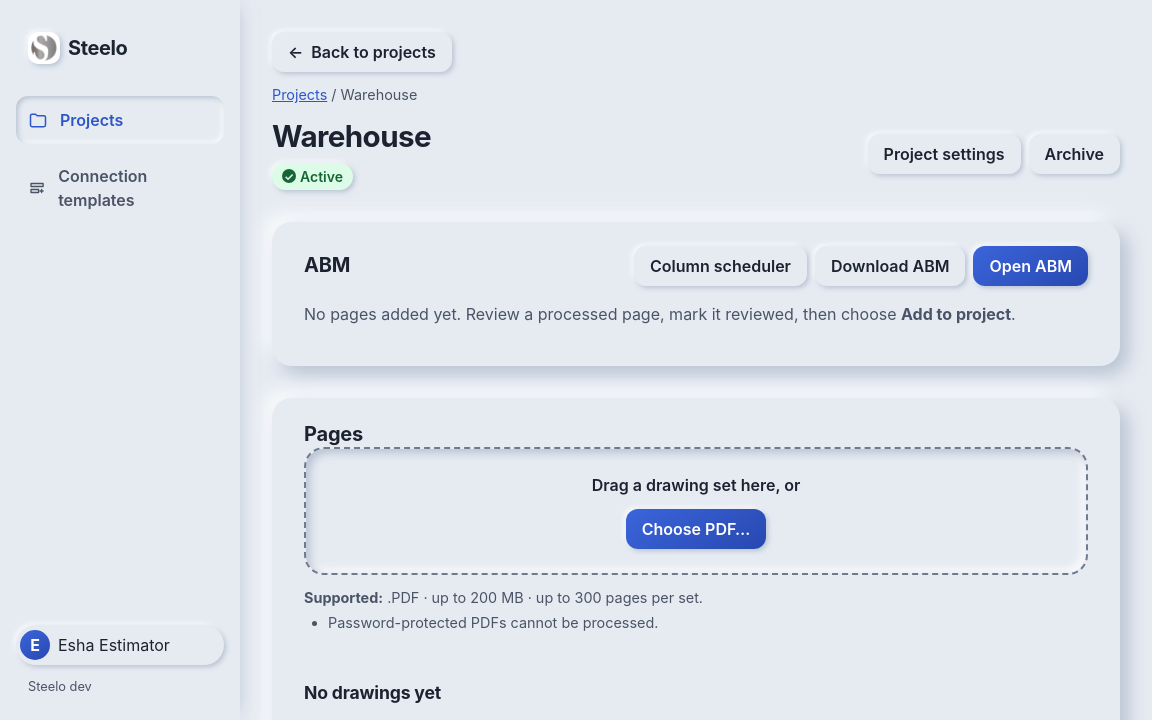
Project details › lists the project’s pens and removes one
The image size is (1152, 720).
What coordinates should you click on to do the following:
click the button "Project settings"
I would click on:
 (944, 154)
Its box is [868,134,1020,174].
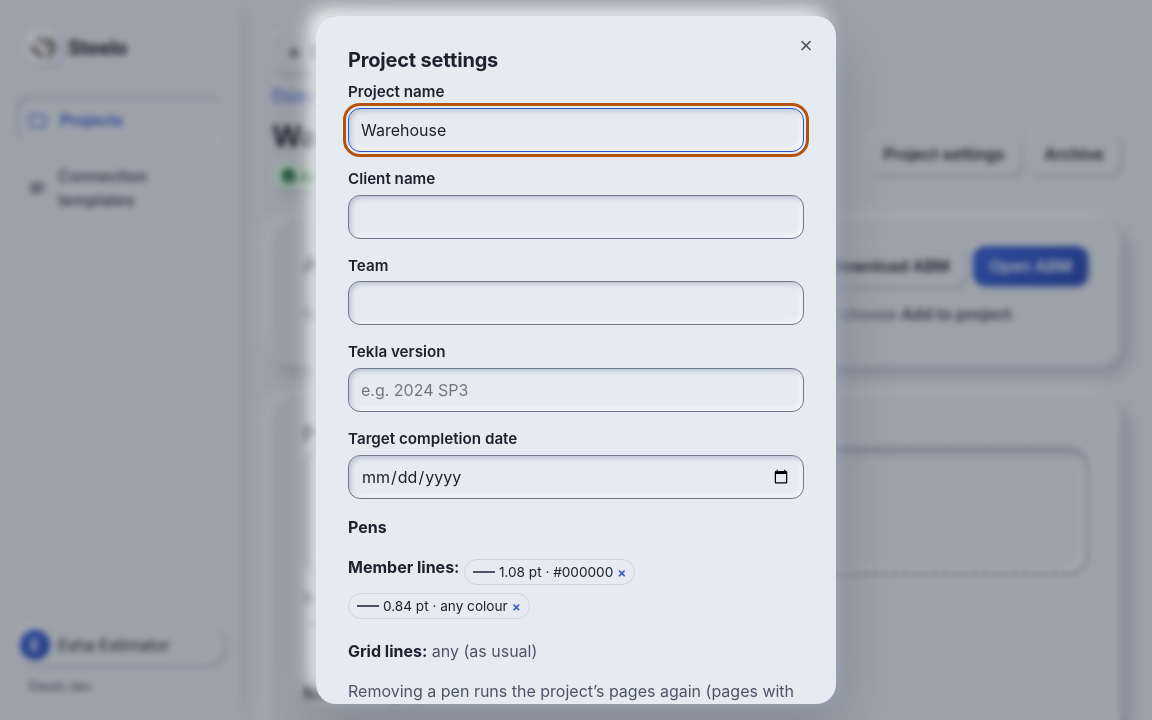
Result: the text "0.84 pt · any colour" is shown at [383,598,508,614]
Result: the text "any (as usual)" is shown at [432,641,537,661]
What coordinates should you click on to do the following:
click the button named "Remove pen 0.84 pt · any colour"
I would click on:
 (516, 606)
Its box is [512,596,521,616].
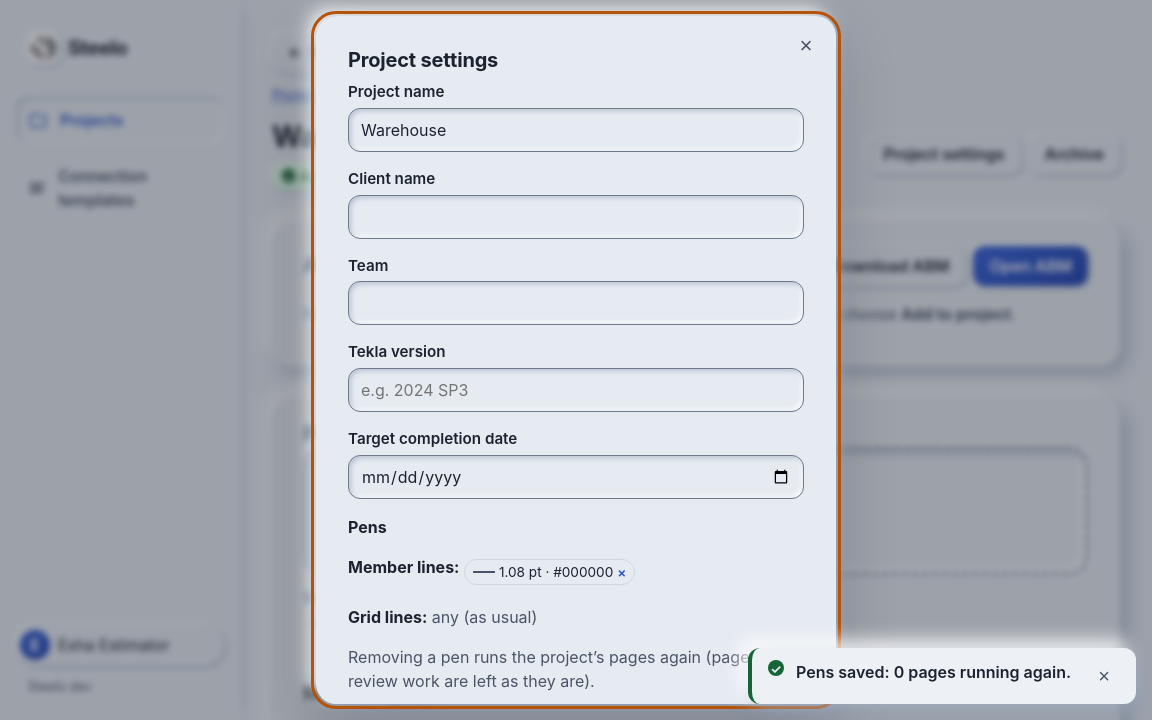
Result: the text "Pens saved: 0 pages running again." is shown at [796,660,1076,684]
